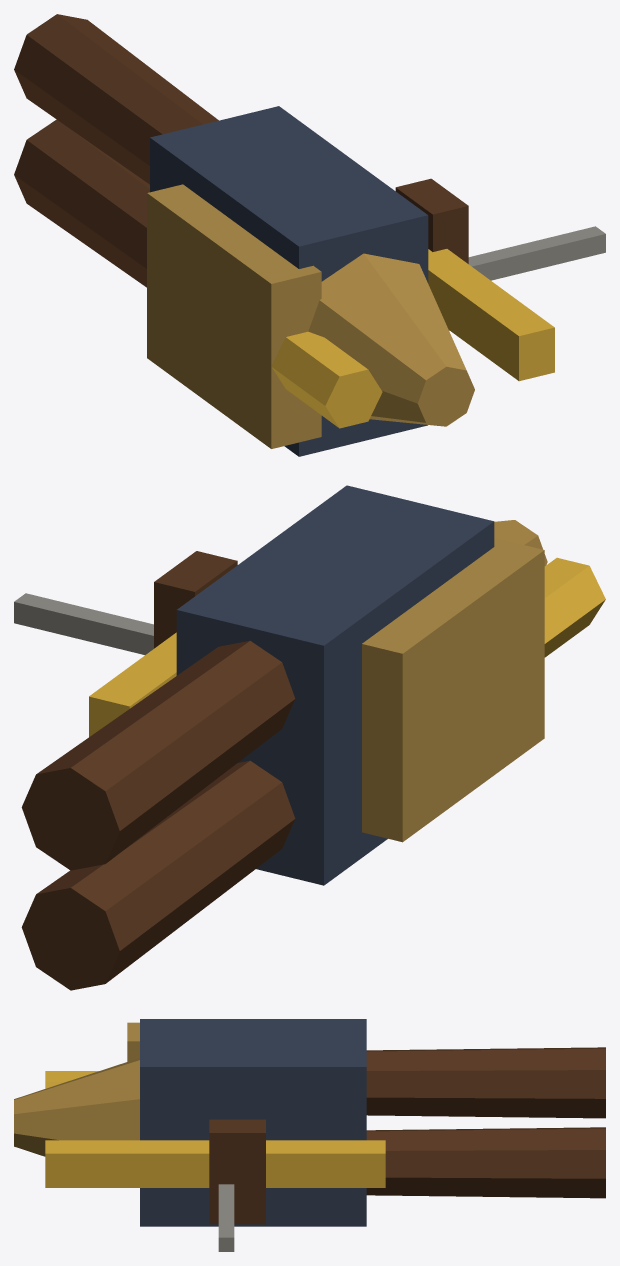
Rendered from SM_UnitArcher.obj.
3 renders of one model, top to bottom at view 1: azimuth 30°, elevation 25°; view 2: azimuth 150°, elevation 25°; view 3: azimuth 270°, elevation 25°, orthographic. The views are drawn at different scales.
Parts seen in each view (by area): view 1: SM_UnitArcher_thatch, SM_UnitArcher_timber, SM_UnitArcher_slate, SM_UnitArcher_gold, SM_UnitArcher_stone; view 2: SM_UnitArcher_timber, SM_UnitArcher_slate, SM_UnitArcher_thatch, SM_UnitArcher_gold, SM_UnitArcher_stone; view 3: SM_UnitArcher_timber, SM_UnitArcher_slate, SM_UnitArcher_gold, SM_UnitArcher_thatch, SM_UnitArcher_stone.
Boxes of the visible parts, <box> form: SM_UnitArcher_thatch: <box>147,184,474,448</box>; SM_UnitArcher_timber: <box>14,14,468,330</box>; SM_UnitArcher_slate: <box>150,106,428,456</box>; SM_UnitArcher_gold: <box>271,249,554,428</box>; SM_UnitArcher_stone: <box>468,226,605,280</box>; SM_UnitArcher_timber: <box>21,551,295,990</box>; SM_UnitArcher_slate: <box>176,485,494,885</box>; SM_UnitArcher_thatch: <box>362,520,547,842</box>; SM_UnitArcher_gold: <box>89,557,605,736</box>; SM_UnitArcher_stone: <box>14,593,153,654</box>; SM_UnitArcher_timber: <box>209,1047,605,1224</box>; SM_UnitArcher_slate: <box>140,1019,366,1226</box>; SM_UnitArcher_gold: <box>45,1071,385,1187</box>; SM_UnitArcher_thatch: <box>14,1022,139,1156</box>; SM_UnitArcher_stone: <box>218,1184,234,1251</box>.
Bounding box in the file's own units: 110 × 56 × 188.
